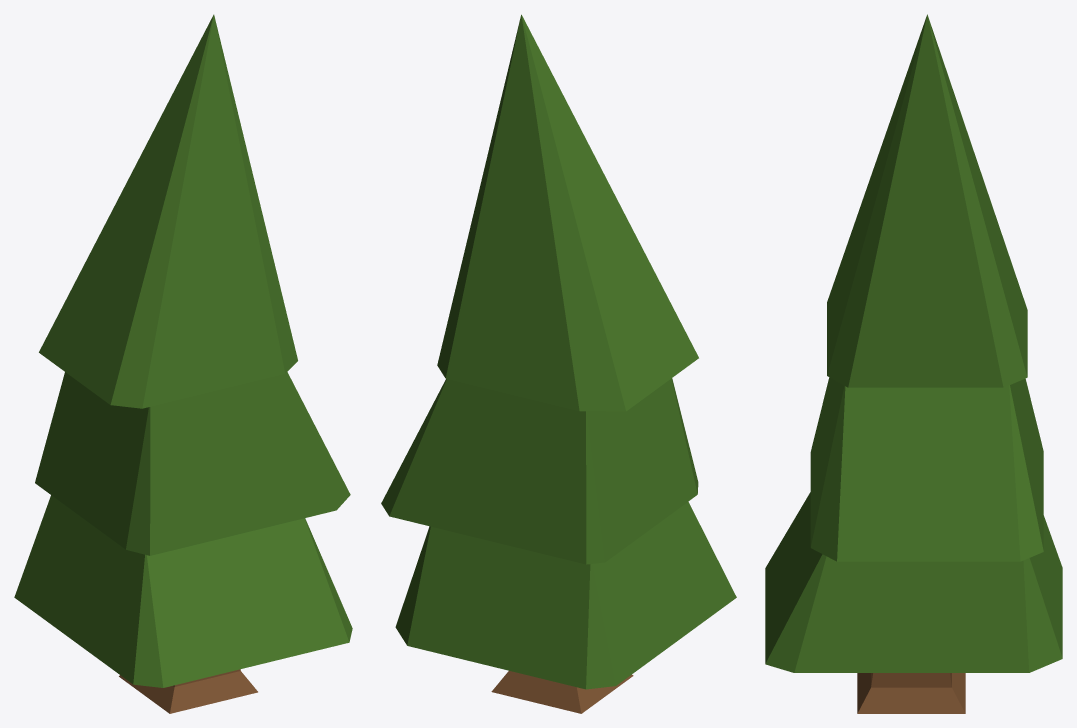
File: tree_pineSmallB.glb
3 renders of one model, left to right at view 1: azimuth 30°, elevation 25°; view 2: azimuth 150°, elevation 25°; view 3: azimuth 270°, elevation 25°, orthographic. The views are drawn at different scales.
Visible parts, largest first — view 1: tree_pineSmallB; view 2: tree_pineSmallB; view 3: tree_pineSmallB.
Boxes of the visible parts, left/top/right/bottom form: tree_pineSmallB: left=14, top=14, right=352, bottom=713; tree_pineSmallB: left=381, top=14, right=736, bottom=713; tree_pineSmallB: left=765, top=14, right=1062, bottom=713.
Bounding box in the file's own units: 0.3863 × 1.01 × 0.392.
